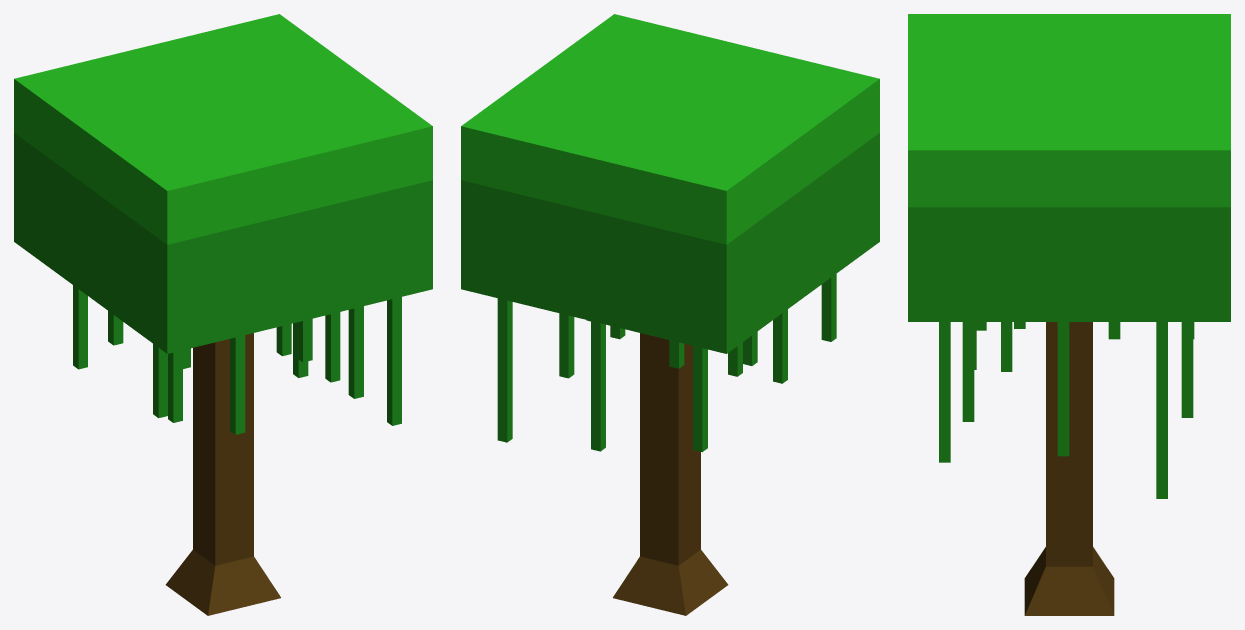
File: tree04.glb
3 renders of one model, left to right at view 1: azimuth 30°, elevation 25°; view 2: azimuth 150°, elevation 25°; view 3: azimuth 270°, elevation 25°, orthographic. The views are drawn at different scales.
Parts seen in each view (by area): view 1: cryingtree1.003_spring_0; view 2: cryingtree1.003_spring_0; view 3: cryingtree1.003_spring_0.
Part boxes in pixels (box(x1,y1,x2,y2)): cryingtree1.003_spring_0: box(14, 14, 432, 615); cryingtree1.003_spring_0: box(461, 14, 879, 615); cryingtree1.003_spring_0: box(908, 14, 1230, 615).
Bounding box in the file's own units: 9.96 × 17.52 × 9.96.
1 material, 1 textured.
